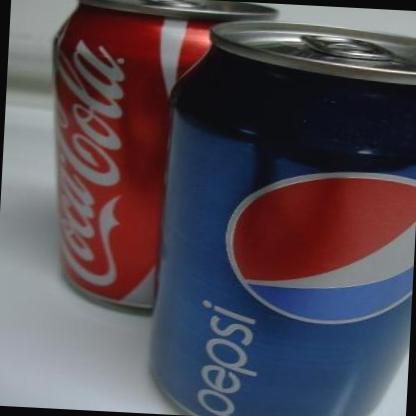alumunium_can: (154, 17, 416, 416), (37, 0, 281, 317)
